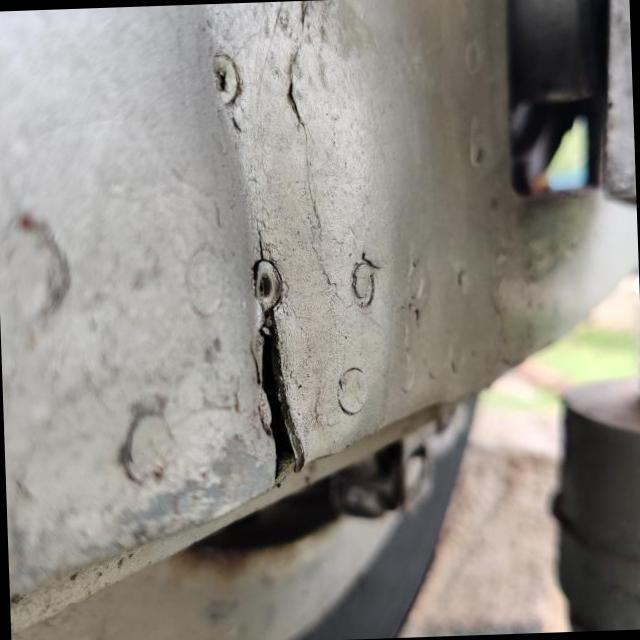Rupture: (212, 289, 332, 496)
